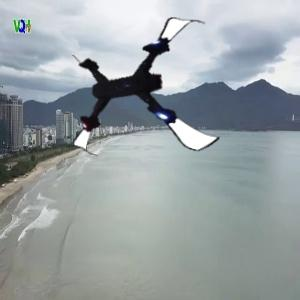drone: (70, 8, 223, 161)
